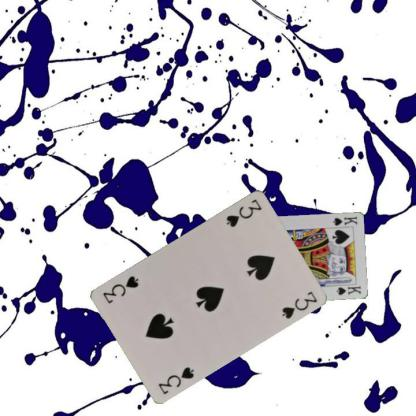3s: (223, 196, 264, 228), (155, 364, 196, 396)
Ks: (330, 214, 359, 226)
